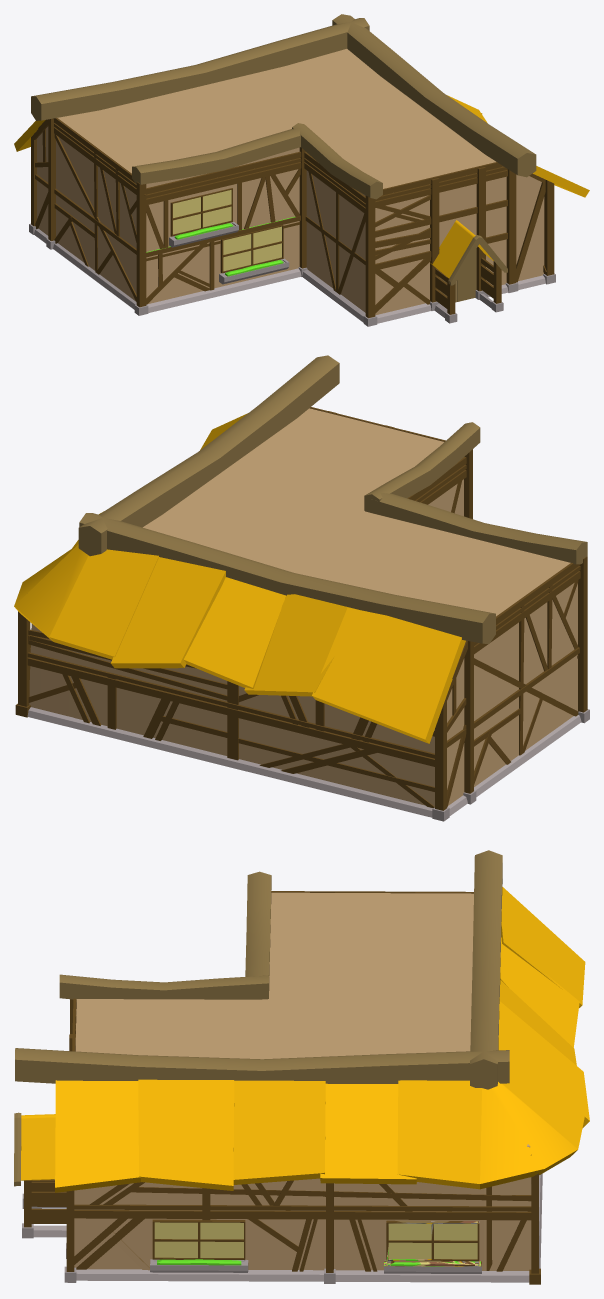
The model's file is Modular_Houses_Flat_Roof_Corner.fbx.
The picture shows the model from 3 angles, top to bottom: view 1: azimuth 30°, elevation 25°; view 2: azimuth 150°, elevation 25°; view 3: azimuth 270°, elevation 25°; orthographic projection. The views are drawn at different scales.
Visible parts, largest first — view 1: Flat_Roof_Corner; view 2: Flat_Roof_Corner; view 3: Flat_Roof_Corner.
Boxes of the visible parts, <box> form: Flat_Roof_Corner: <box>14,14,589,326</box>; Flat_Roof_Corner: <box>14,355,589,821</box>; Flat_Roof_Corner: <box>14,850,589,1284</box>.
Size of the model in its own units: 18.25 by 6.96 by 17.86.
Materials: 1 (1 with a texture image).
